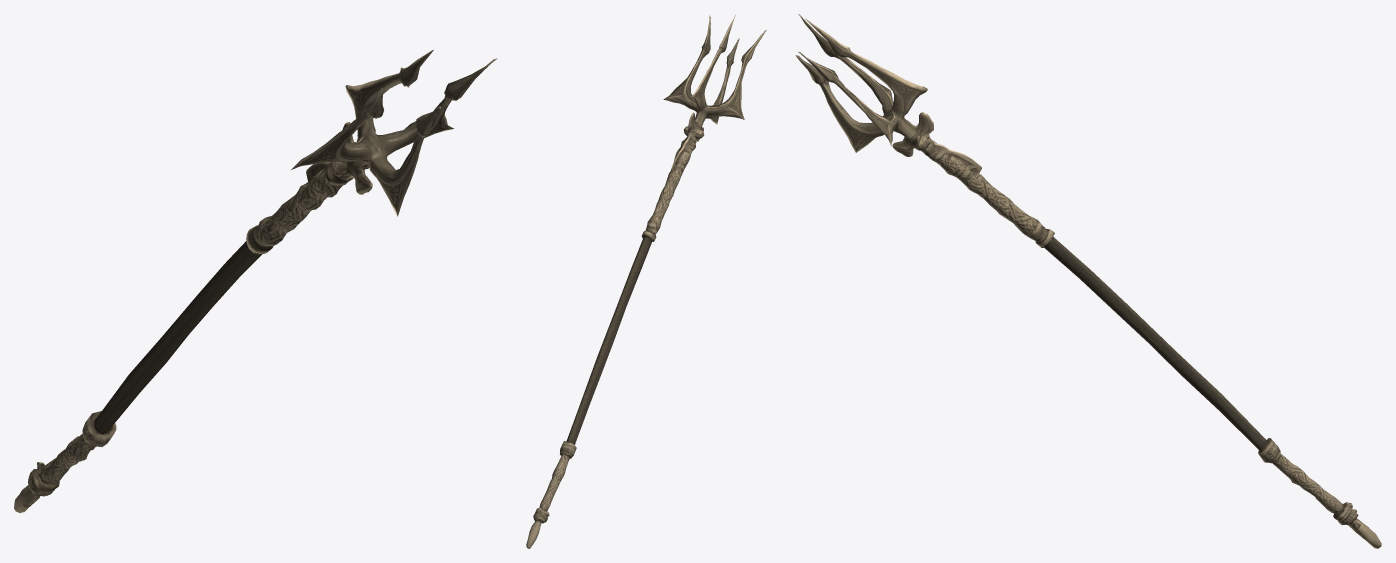
File: dinh_ba_mesh.fbx
The picture shows the model from 3 angles, left to right: view 1: azimuth 30°, elevation 25°; view 2: azimuth 150°, elevation 25°; view 3: azimuth 270°, elevation 25°; orthographic projection. The views are drawn at different scales.
Parts seen in each view (by area): view 1: Mesh_0; view 2: Mesh_0; view 3: Mesh_0.
Boxes of the visible parts, bbox=[...] form: Mesh_0: bbox=[14, 50, 497, 513]; Mesh_0: bbox=[526, 15, 766, 548]; Mesh_0: bbox=[795, 14, 1381, 548].
Size of the model in its own units: 22.31 by 99.8 by 100.
1 material, 1 textured.
